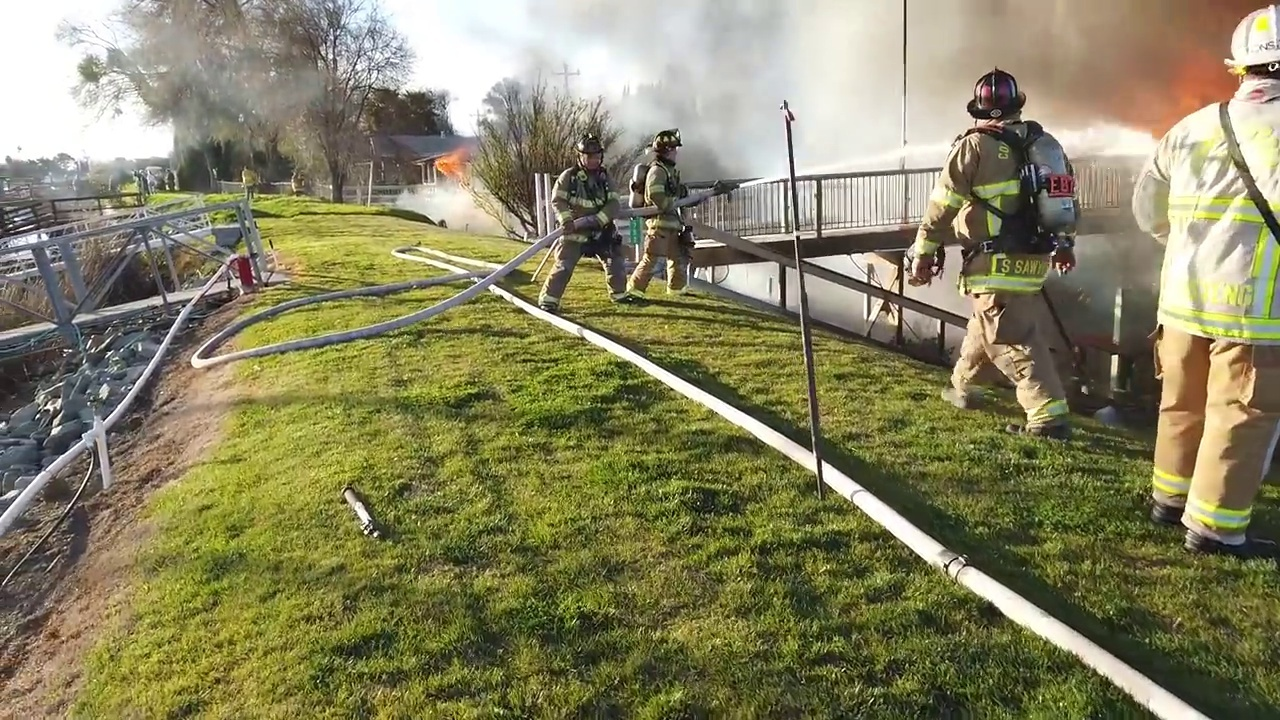fire: (432, 143, 470, 175)
smoke: (530, 2, 911, 143), (117, 1, 331, 153), (949, 4, 1214, 105), (1073, 239, 1155, 342), (805, 275, 895, 340), (727, 266, 800, 310), (922, 275, 970, 317), (818, 253, 900, 277)
